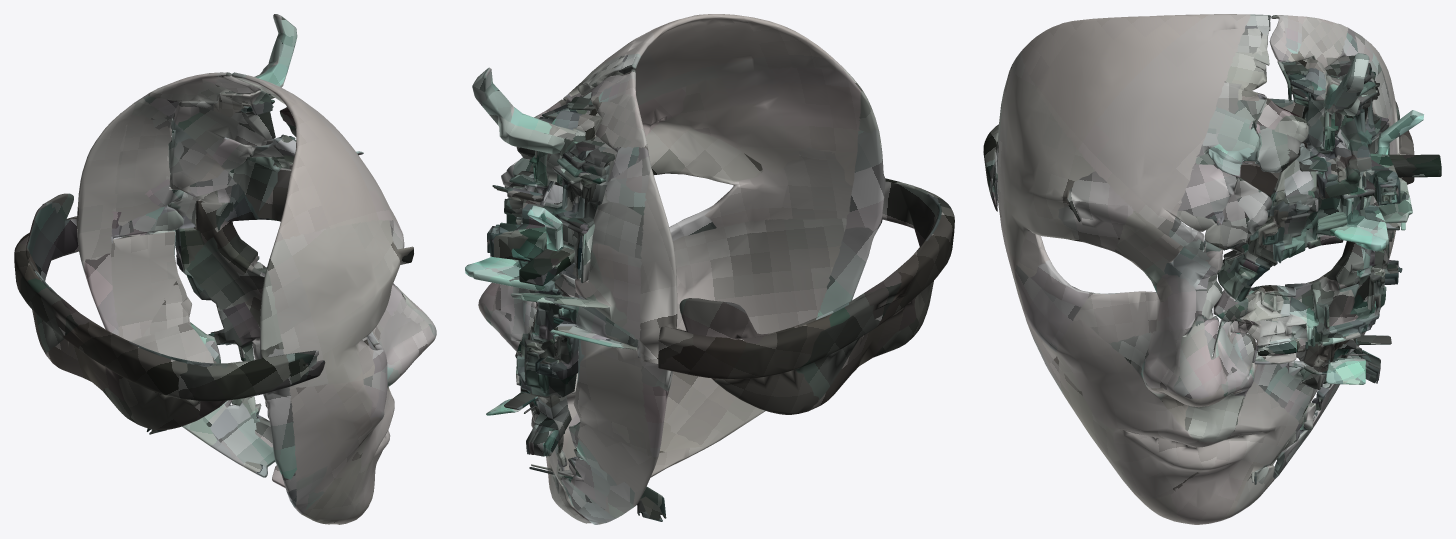
The model's file is prop_mask.glb.
3 renders of one model, left to right at view 1: azimuth 30°, elevation 25°; view 2: azimuth 150°, elevation 25°; view 3: azimuth 270°, elevation 25°, orthographic. The views are drawn at different scales.
Parts seen in each view (by area): view 1: tripo_node_4074eff6-c58d-4144-8768-465785dfe364; view 2: tripo_node_4074eff6-c58d-4144-8768-465785dfe364; view 3: tripo_node_4074eff6-c58d-4144-8768-465785dfe364.
Part boxes in pixels (x1,y1,x2,y2): tripo_node_4074eff6-c58d-4144-8768-465785dfe364: [14, 14, 436, 524]; tripo_node_4074eff6-c58d-4144-8768-465785dfe364: [465, 14, 954, 524]; tripo_node_4074eff6-c58d-4144-8768-465785dfe364: [983, 14, 1441, 524].
Size of the model in its own units: 0.8492 by 0.9807 by 0.8551.
Materials: 1 (1 with a texture image).
